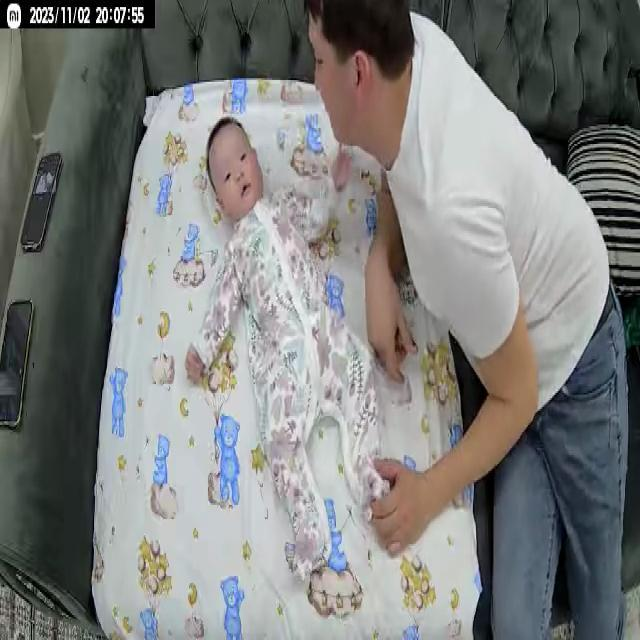baby: (182, 114, 400, 580)
